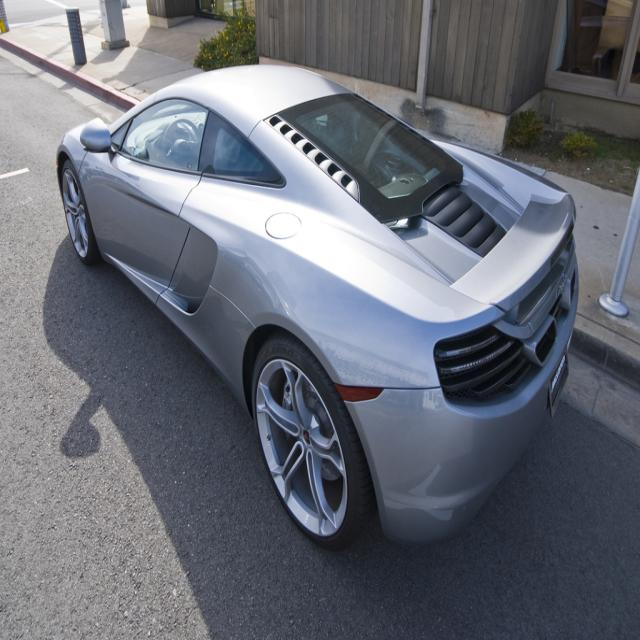car: (63, 70, 572, 550)
